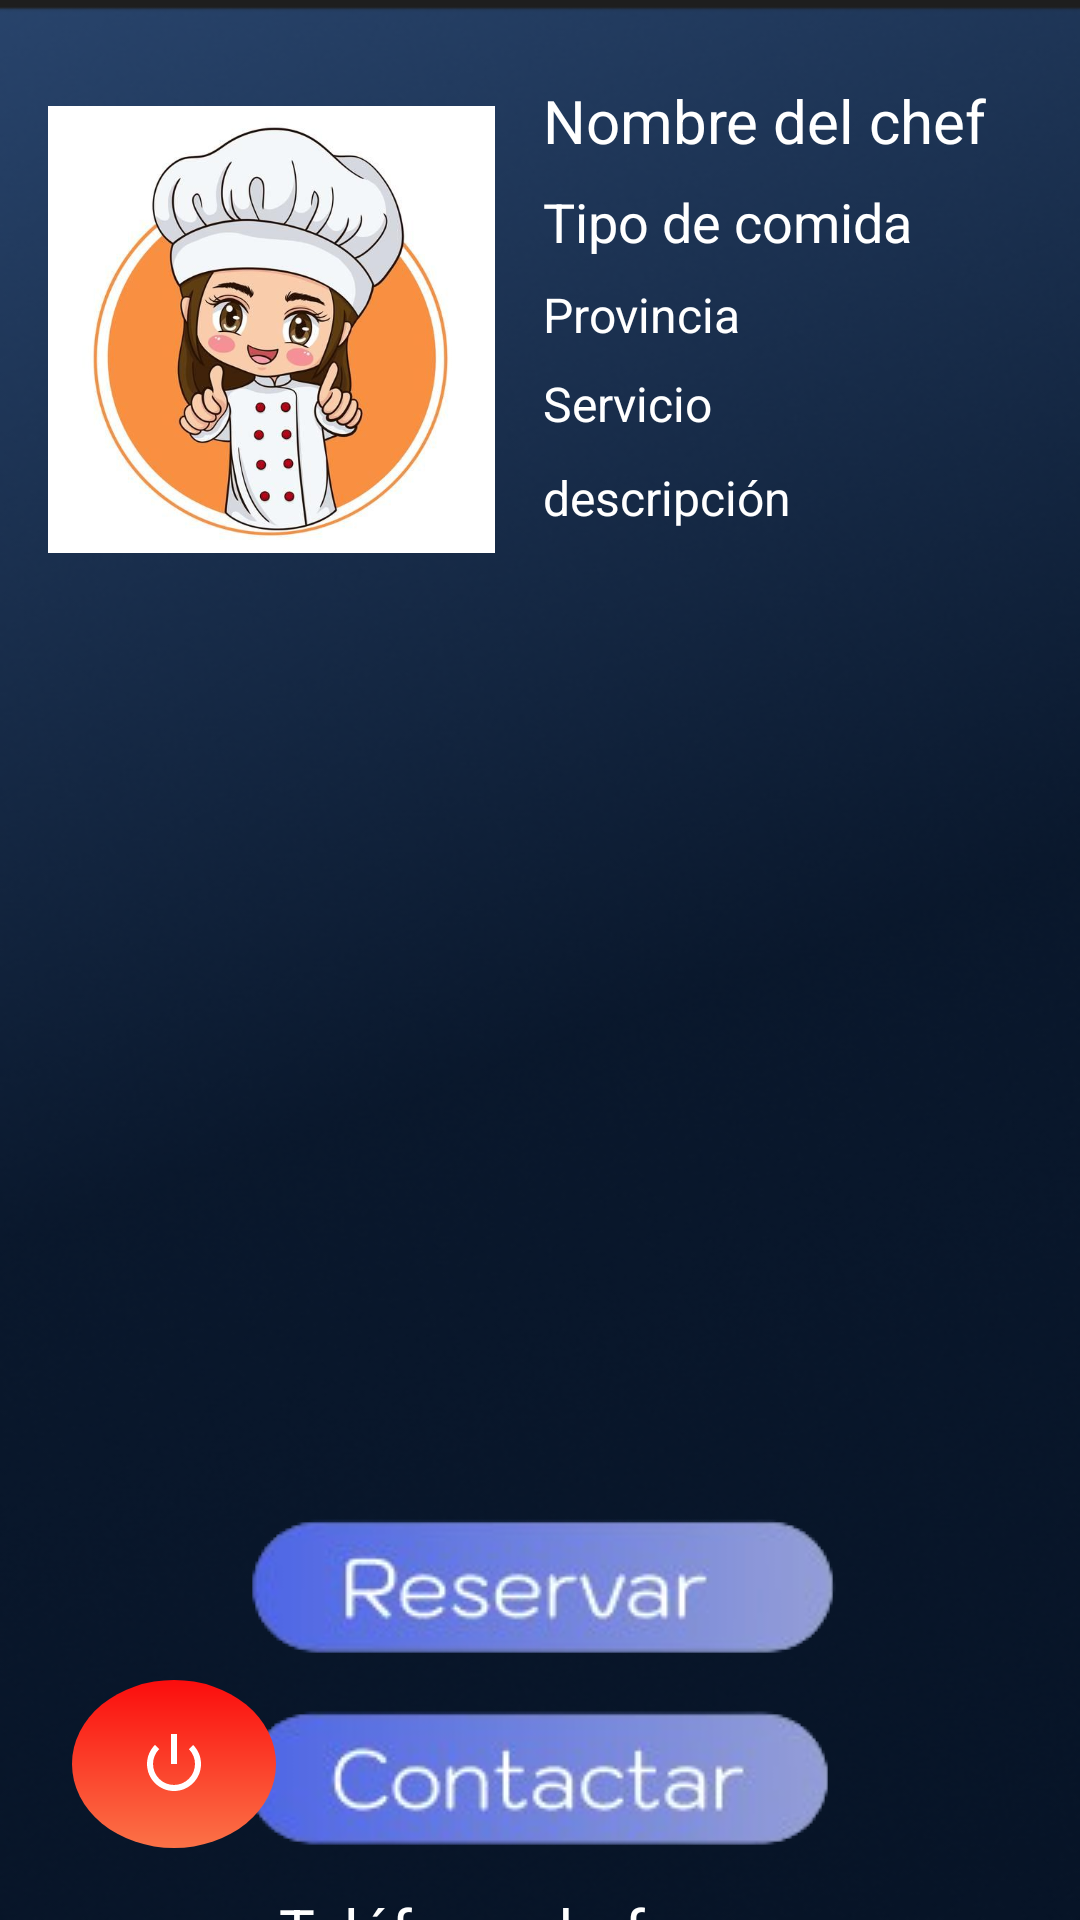

Named icons in this screenshot (1080x1920) and their centers, (x,y):
lock power off: (174,1764)
